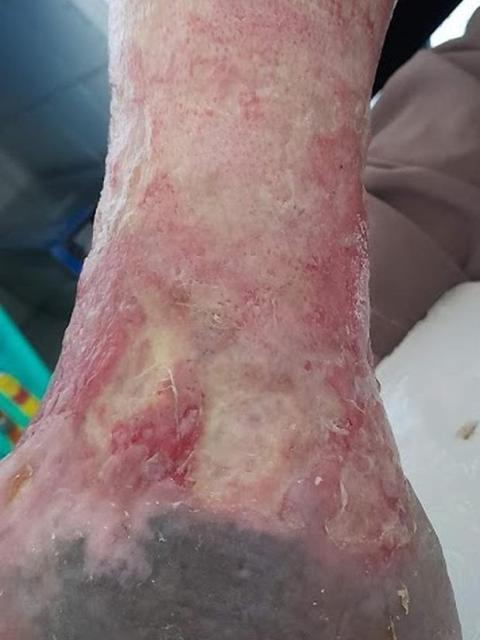wound: (57, 272, 224, 509), (297, 323, 410, 548)
